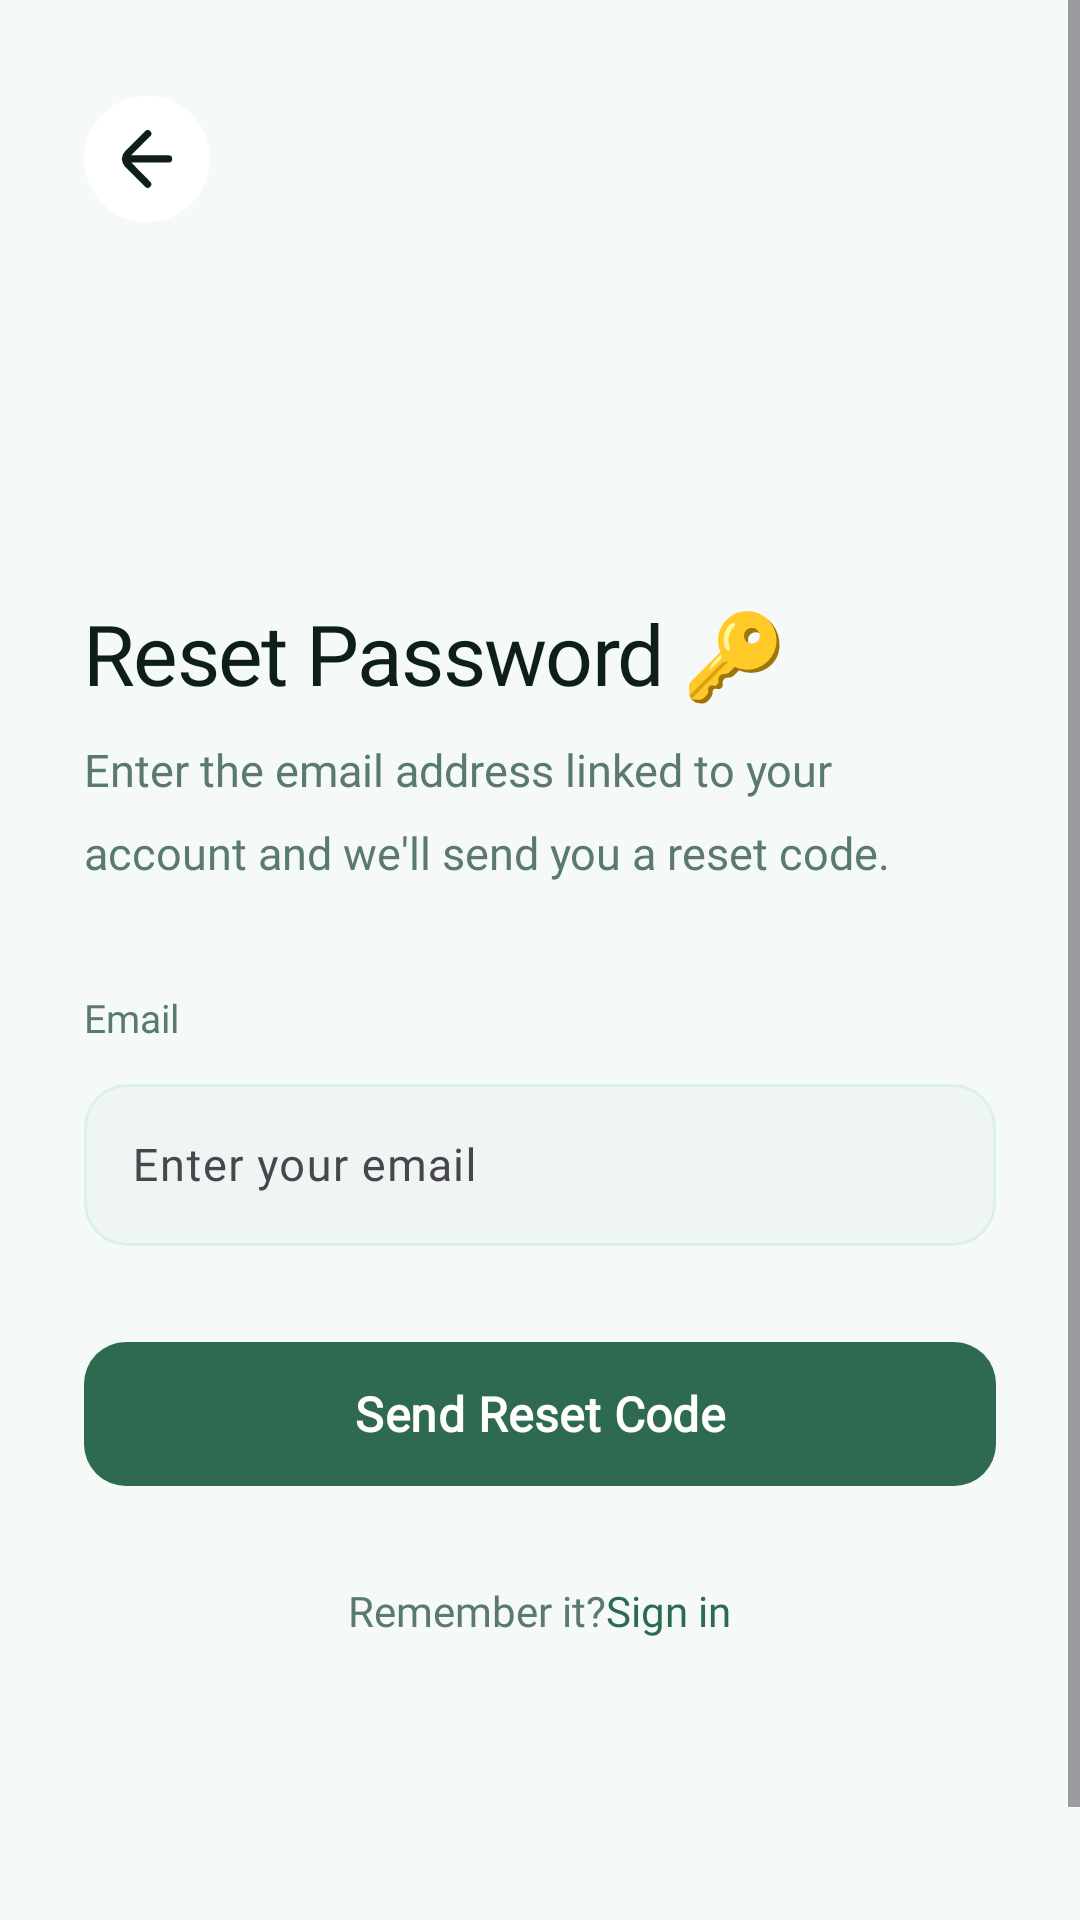

Named icons in this screenshot (1080px x 1920px) and their bounding boxes, (x1, y1, x2, y2):
Back: (84, 96, 210, 222)
